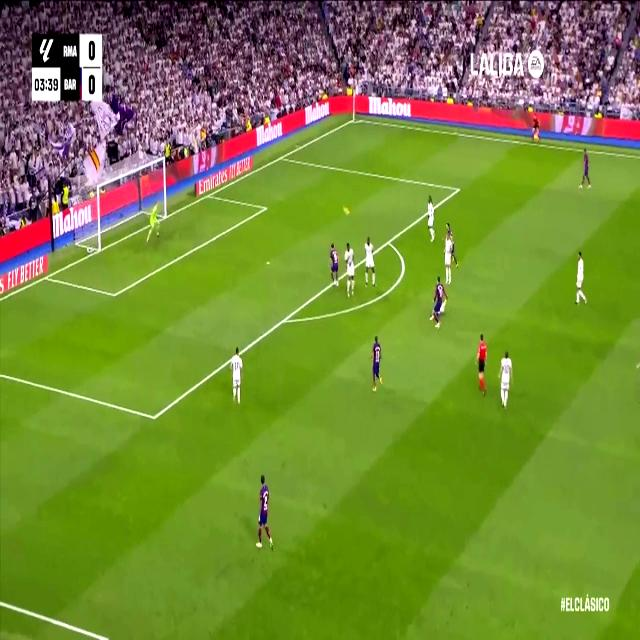bigarea_bottom_inner: (148, 404, 160, 430)
bigarea_top_inner: (453, 180, 462, 198)
bigarea_top_outter: (278, 151, 284, 162)
bottom_arc_area_intersection: (279, 308, 290, 330)
corner: (350, 114, 358, 123)
smallarea_bottom_inner: (110, 284, 119, 304)
smallarea_top_inner: (262, 202, 268, 213)
top_arc_area_intersection: (385, 233, 392, 249)
